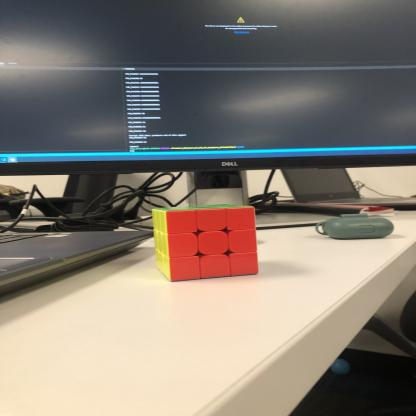SolvedCube: (149, 206, 269, 283)
